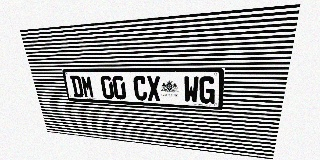0: (112, 76, 126, 100), (100, 76, 114, 99)
C: (133, 76, 147, 101)
D: (70, 75, 84, 98)
G: (199, 76, 216, 104)
M: (80, 75, 95, 98)
W: (184, 76, 199, 103)
X: (146, 76, 161, 101)
